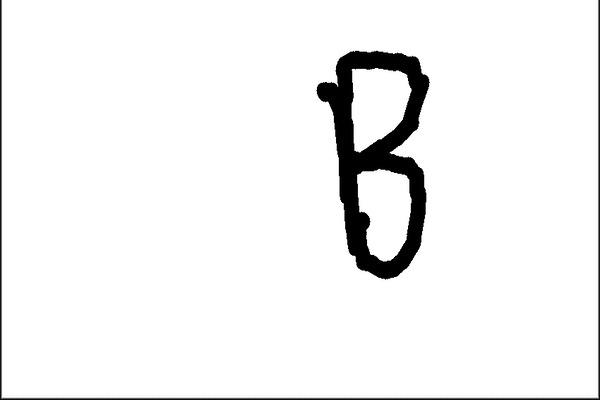B: (305, 37, 447, 290)
